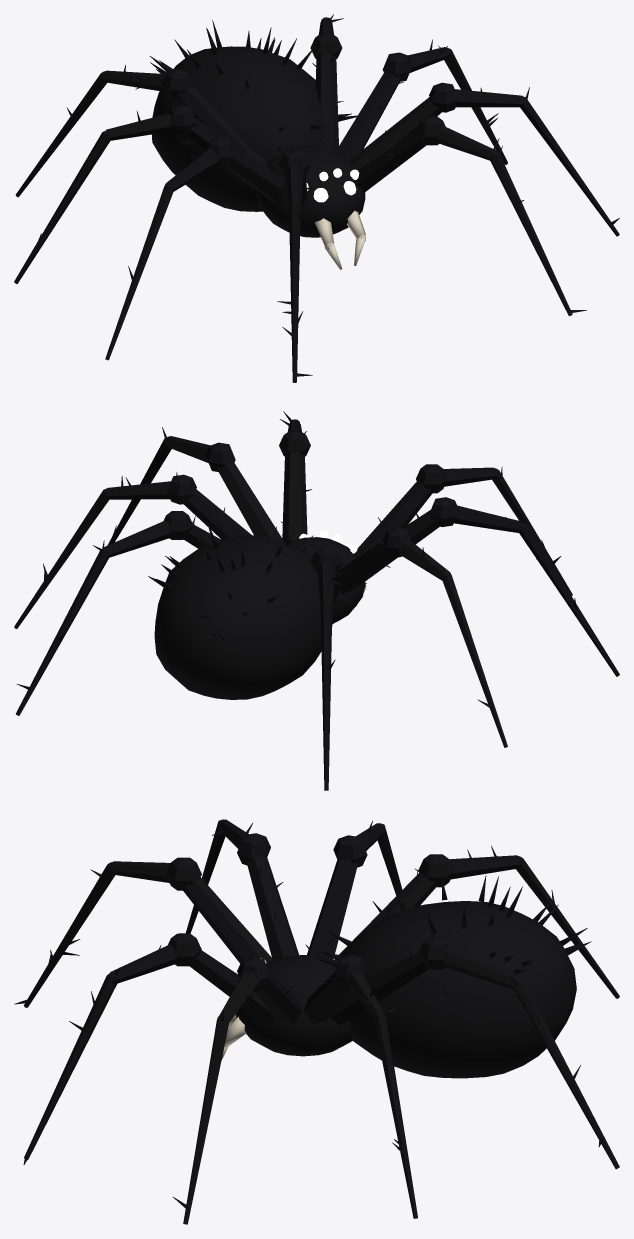
File: spider.glb
3 renders of one model, top to bottom at view 1: azimuth 30°, elevation 25°; view 2: azimuth 150°, elevation 25°; view 3: azimuth 270°, elevation 25°, orthographic. The views are drawn at different scales.
Parts seen in each view (by area): view 1: Body, Leg4, Leg5, Leg1, Leg3, Leg6, Leg2, Leg0, Leg7, Eyes; view 2: Body, Leg6, Leg2, Leg1, Leg0, Leg5, Leg7, Leg3, Leg4; view 3: Body, Leg7, Leg0, Leg4, Leg3, Leg5, Leg6, Leg1, Leg2.
Part boxes in pixels (<box>): Body: <box>150,20,365,269</box>; Leg4: <box>355,116,586,316</box>; Leg5: <box>349,82,619,236</box>; Leg1: <box>105,137,283,360</box>; Leg3: <box>15,65,266,197</box>; Leg6: <box>335,39,507,164</box>; Leg2: <box>14,105,271,283</box>; Leg0: <box>277,149,312,382</box>; Leg7: <box>310,14,343,151</box>; Eyes: <box>306,168,359,202</box>; Body: <box>148,509,366,699</box>; Leg6: <box>14,472,251,628</box>; Leg2: <box>337,527,507,747</box>; Leg1: <box>352,497,619,676</box>; Leg0: <box>353,464,572,595</box>; Leg5: <box>107,427,284,545</box>; Leg7: <box>16,511,221,715</box>; Leg3: <box>310,547,343,790</box>; Leg4: <box>279,411,311,542</box>; Body: <box>221,875,591,1078</box>; Leg7: <box>330,936,619,1169</box>; Leg0: <box>14,857,273,1007</box>; Leg4: <box>23,933,275,1164</box>; Leg3: <box>334,845,619,998</box>; Leg5: <box>173,957,302,1224</box>; Leg6: <box>303,954,417,1218</box>; Leg1: <box>186,819,298,959</box>; Leg2: <box>305,820,402,959</box>.
Bounding box in the file's own units: 2.22 × 0.7177 × 2.
